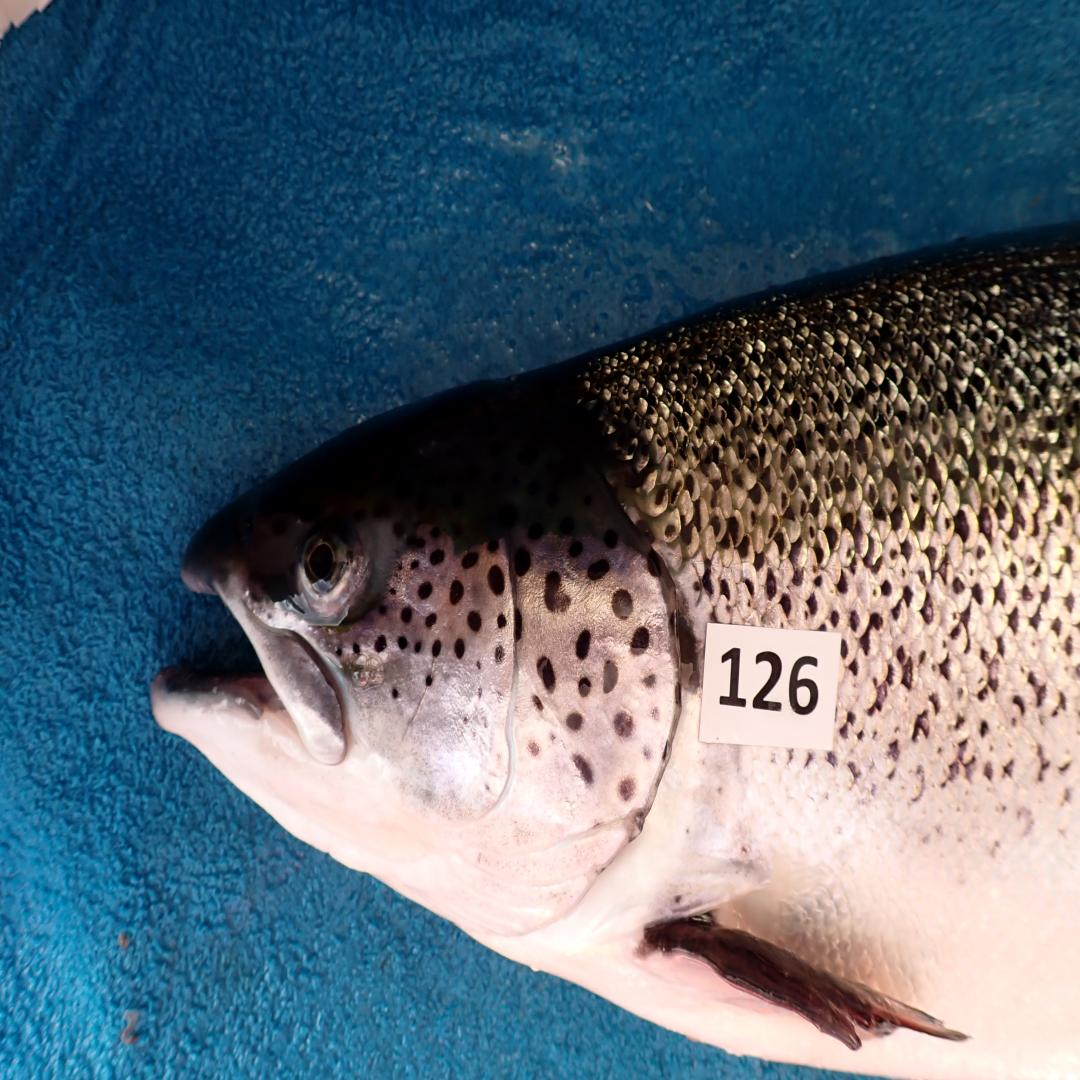roi: (343, 527, 681, 949)
